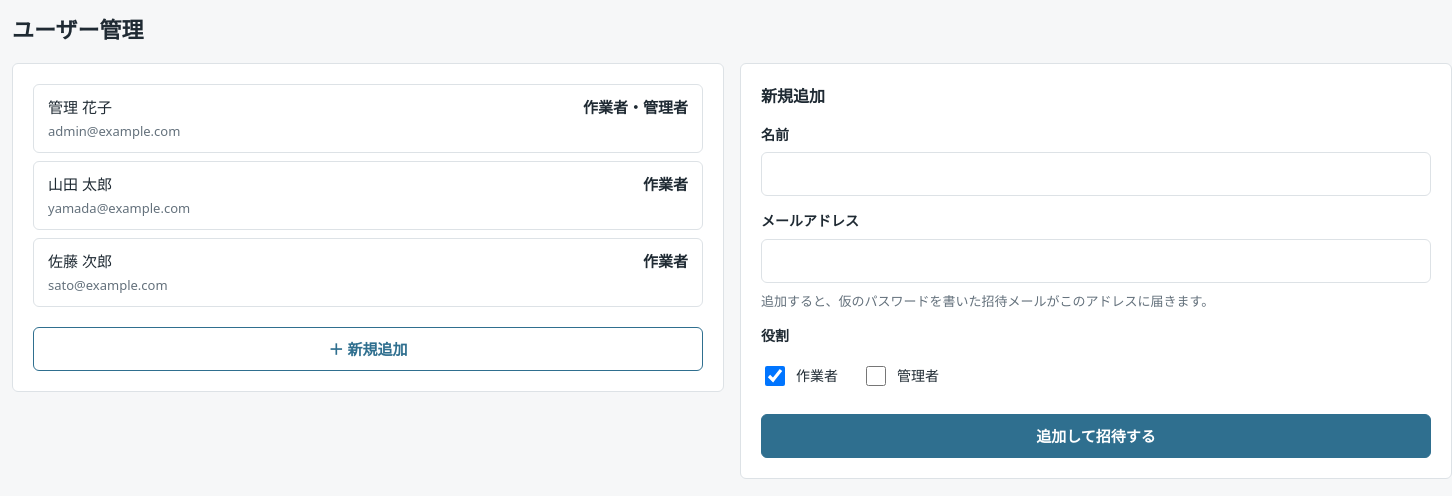
it: 編集 › 自分の管理者の役割は外せず、自分の利用も止められない
This screenshot has width=1452, height=496.
Click the button "管理 花子 作業者・管理者 admin@example.com".
click(80, 107)  # box 33,84 -> 703,153
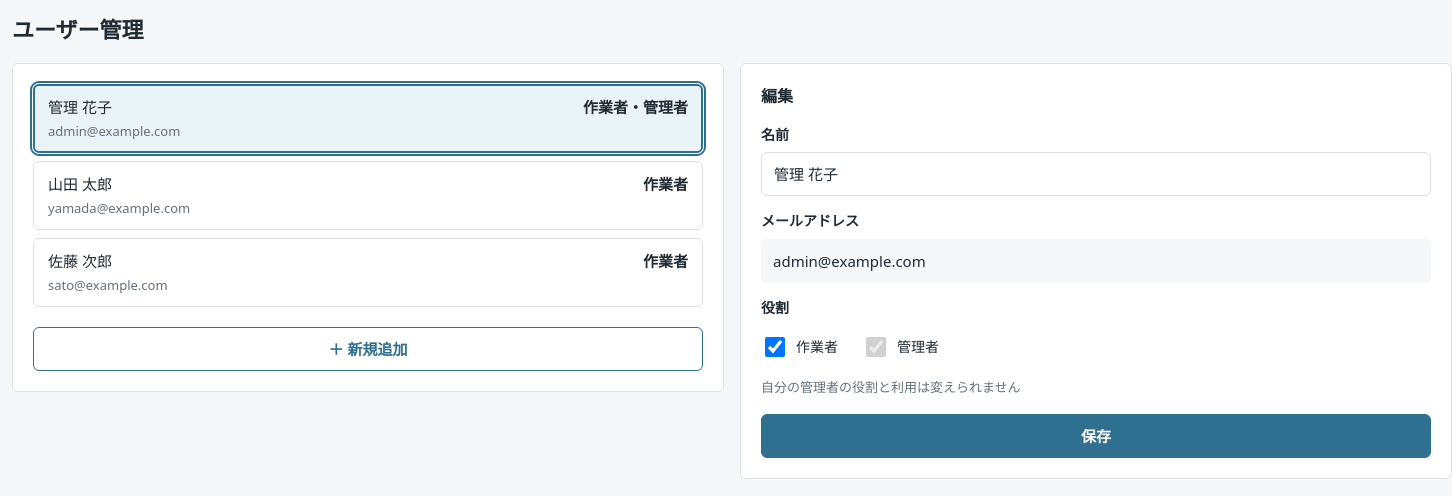
Expected: the checkbox labelled "管理者" is disabled, 866,337 -> 886,357
Expected: the text "自分の管理者の役割と利用は変えられません" is shown, 761,378 -> 1021,396
